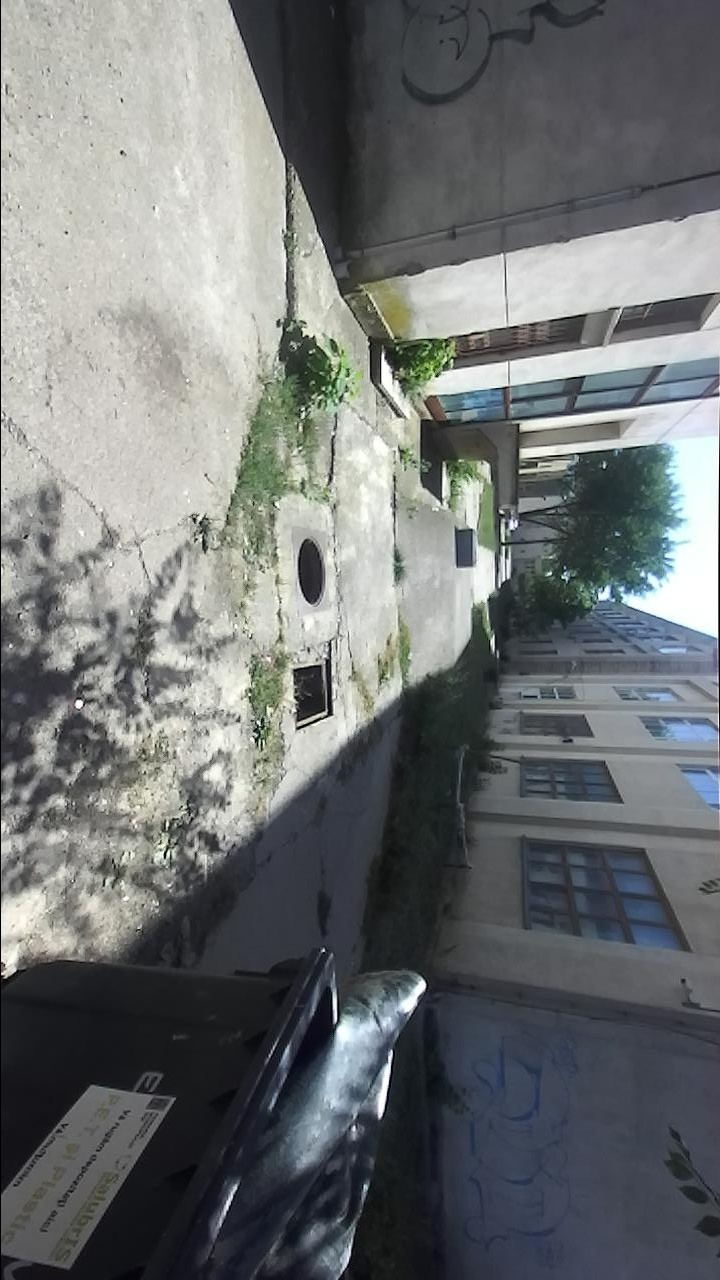drain: (292, 642, 327, 743), (297, 533, 329, 611)
